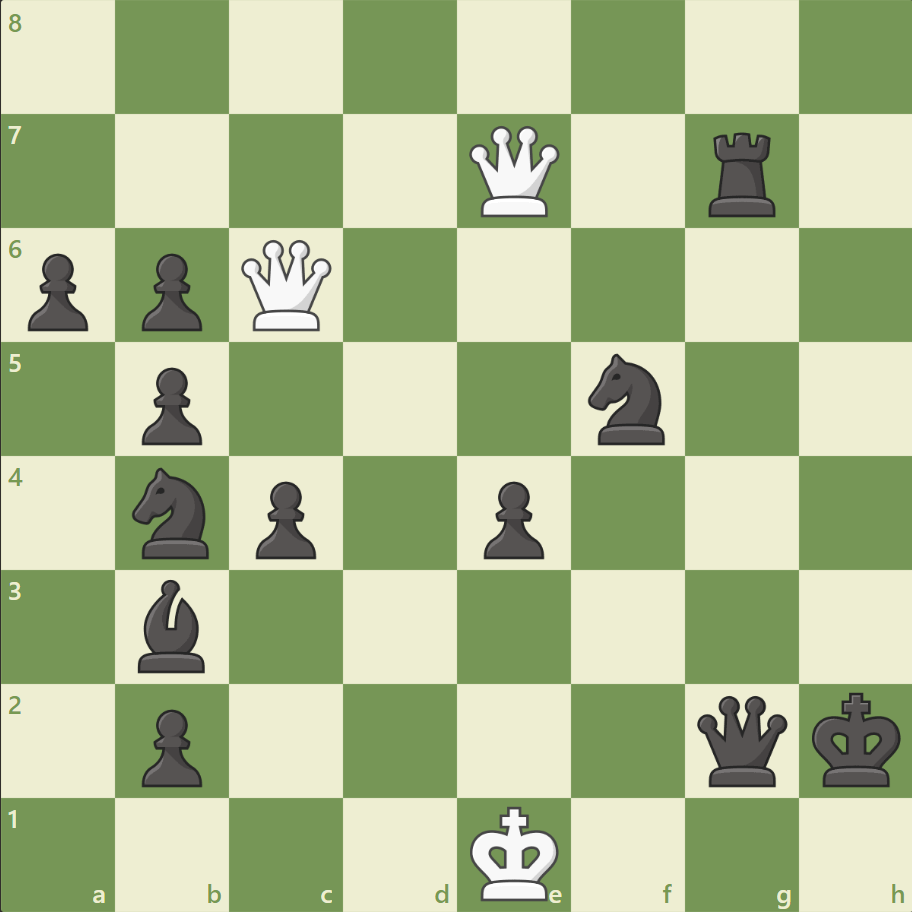K: (465, 798, 565, 906)
Q: (464, 122, 563, 222), (237, 236, 336, 335)
b: (131, 574, 215, 676)
k: (806, 685, 906, 793)
n: (124, 461, 222, 564), (579, 348, 676, 450)
p: (20, 246, 95, 337), (133, 246, 208, 337), (133, 359, 208, 450), (247, 473, 322, 564), (474, 473, 549, 564), (133, 700, 208, 791)
q: (691, 690, 790, 789)
r: (700, 125, 783, 222)
